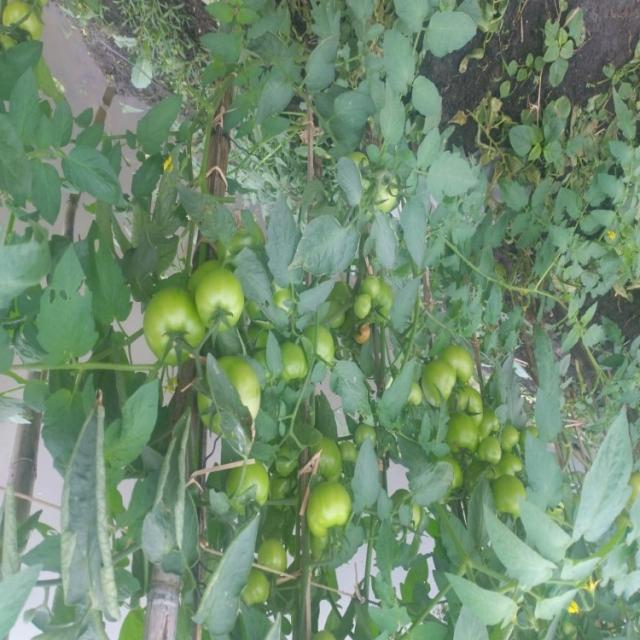tomato: (192, 254, 258, 342), (296, 486, 371, 541), (134, 292, 192, 354), (419, 355, 464, 416), (211, 355, 259, 409), (433, 418, 488, 461), (226, 462, 268, 517), (440, 335, 482, 388), (351, 270, 391, 322), (274, 341, 313, 386), (454, 382, 487, 423), (493, 478, 521, 525), (477, 428, 507, 470), (244, 568, 275, 608), (484, 456, 516, 489), (319, 329, 344, 363), (494, 417, 518, 450)
